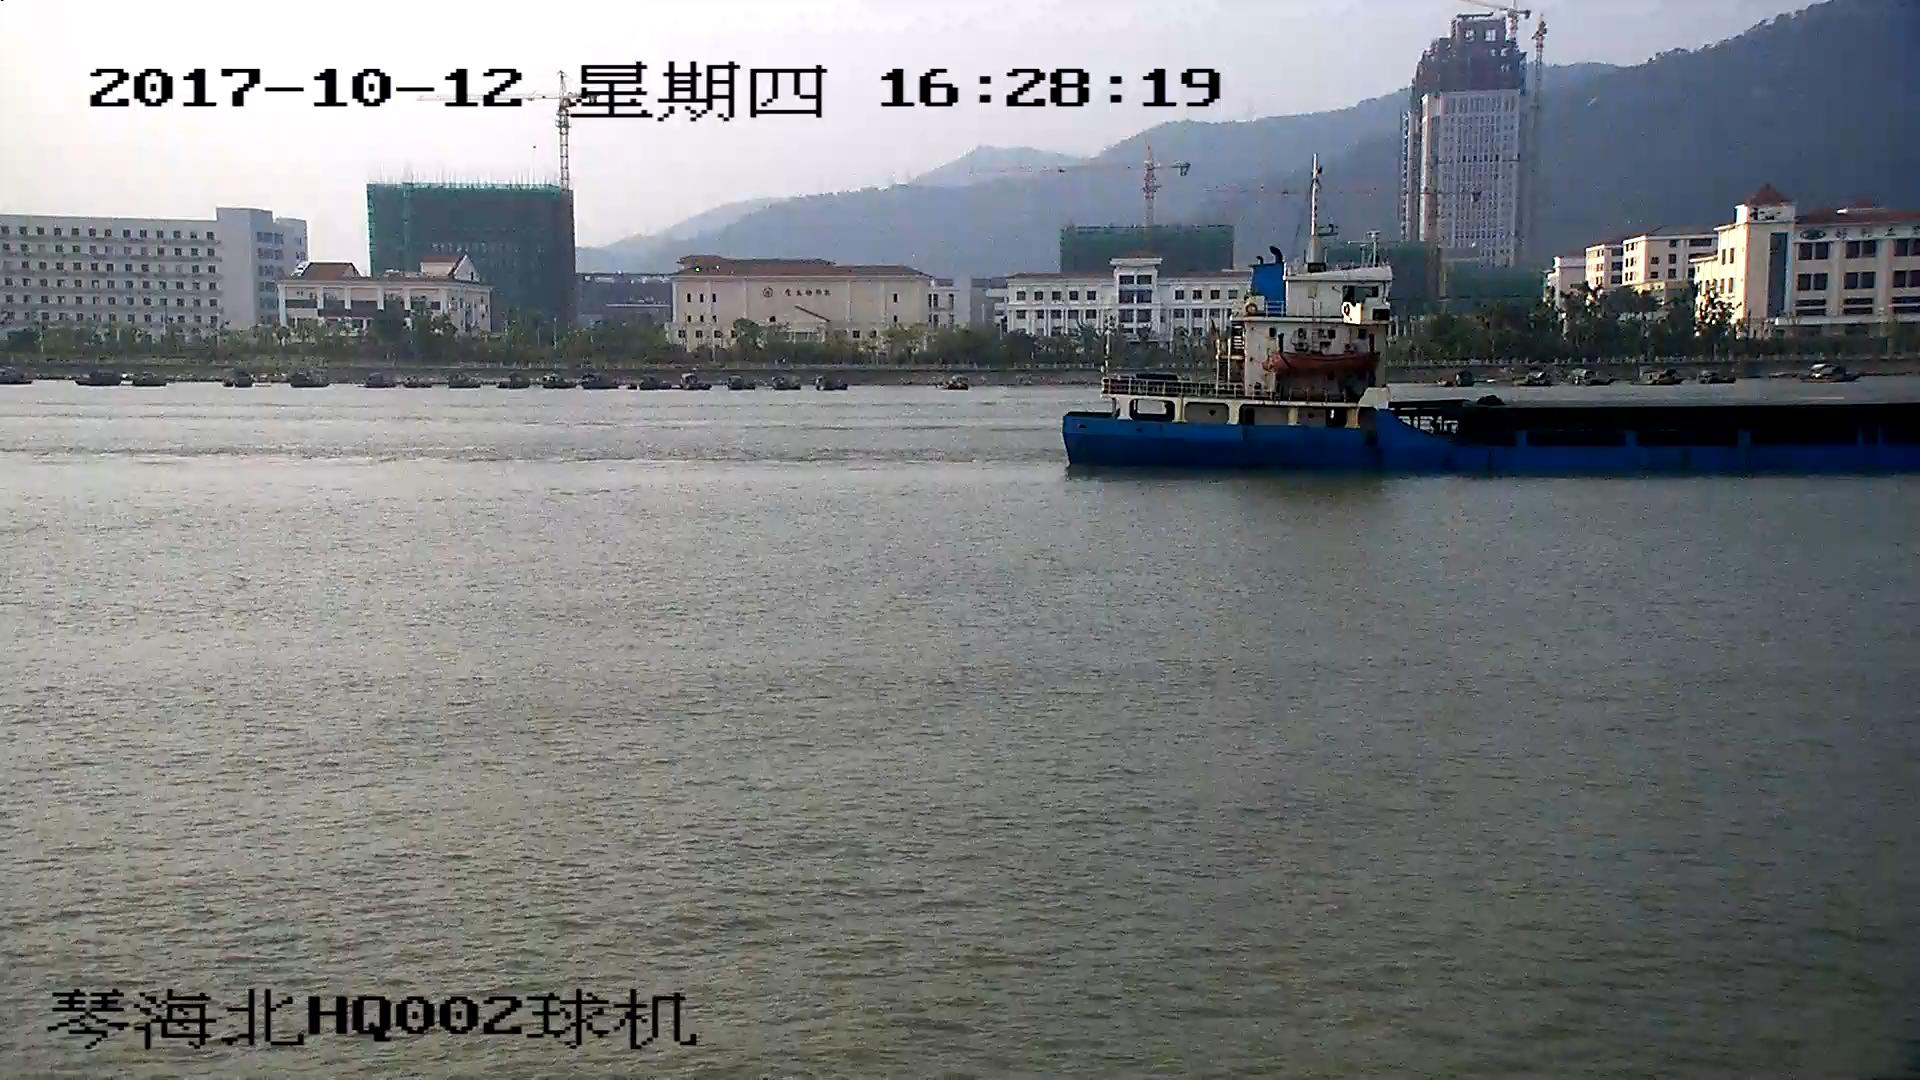general cargo ship: (1059, 169, 1920, 479)
